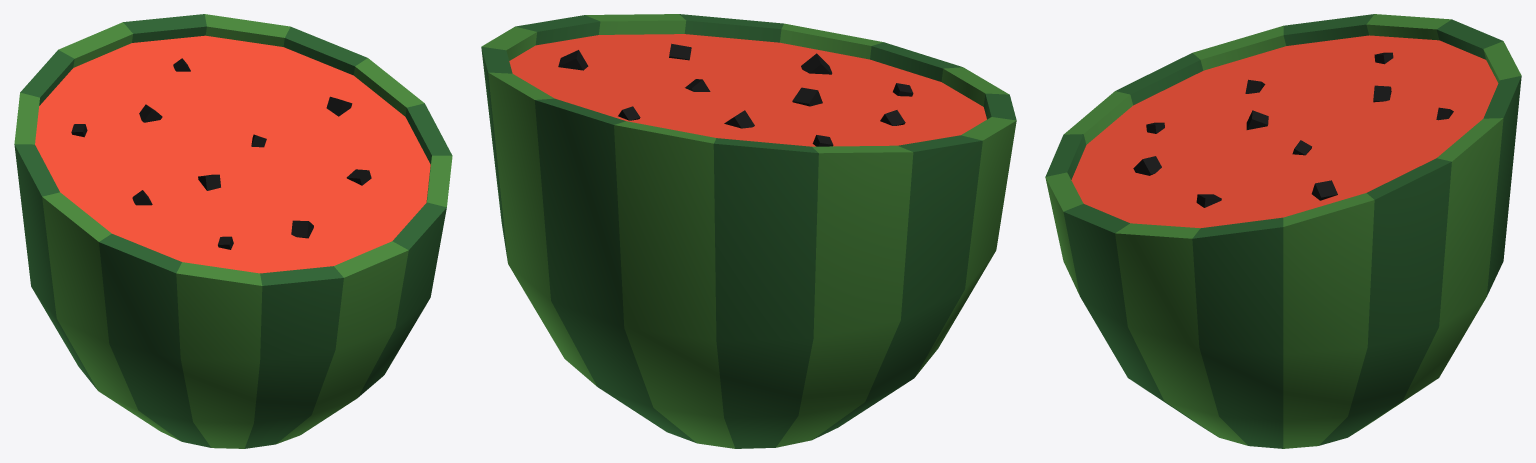
Rendered from Melon.fbx.
The picture shows the model from 3 angles, left to right: view 1: azimuth 30°, elevation 25°; view 2: azimuth 150°, elevation 25°; view 3: azimuth 270°, elevation 25°; orthographic projection. The views are drawn at different scales.
Parts seen in each view (by area): view 1: Melon; view 2: Melon; view 3: Melon.
Part boxes in pixels (<box>): Melon: <box>14,14,452,448</box>; Melon: <box>481,14,1016,448</box>; Melon: <box>1045,14,1521,448</box>.
Bounding box in the file's own units: 0.42 × 0.3461 × 0.42.
